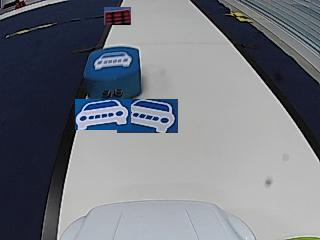safety: (93, 51, 133, 69)
